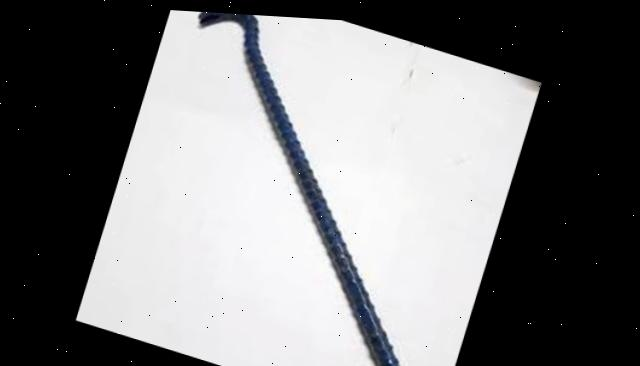crow bar: (96, 5, 524, 366)
